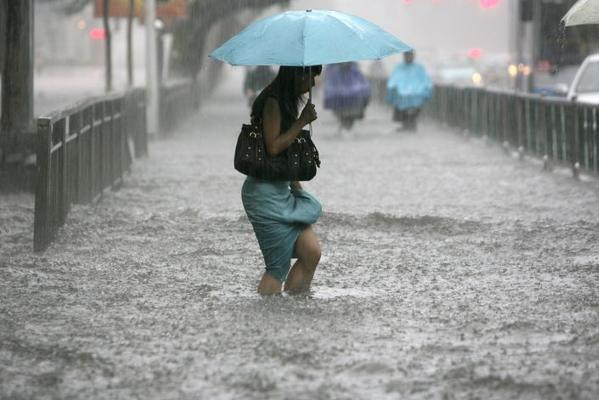person: (241, 65, 323, 291)
